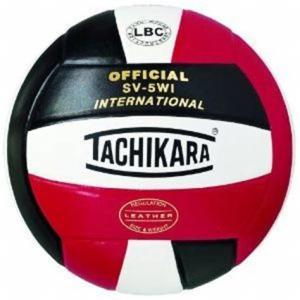Volley: (7, 5, 294, 297)
